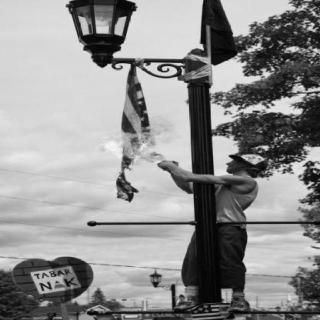Fire: (90, 122, 172, 164)
other: (11, 255, 101, 307)
